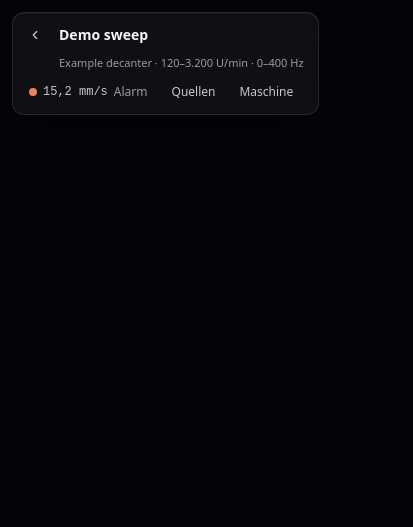
Scenario: AnalysisDock › speaks German
The width and height of the screenshot is (413, 527).
Expected: the text "Example decanter · 120–3.200 U/min · 0–400 Hz" is shown, [59, 55, 304, 70]
What coordinates should you click on to do the following:
click the tab "Quellen"
I would click on:
 (193, 92)
Its box is [162, 76, 225, 108].
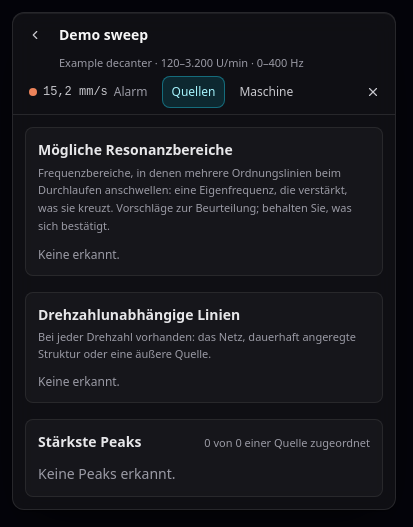
Result: the panel named "Quellen" is shown
Result: the button named "Quellen schließen" is shown at [357, 76, 389, 108]
Result: the heading "Stärkste Peaks" is shown at [38, 432, 141, 452]
